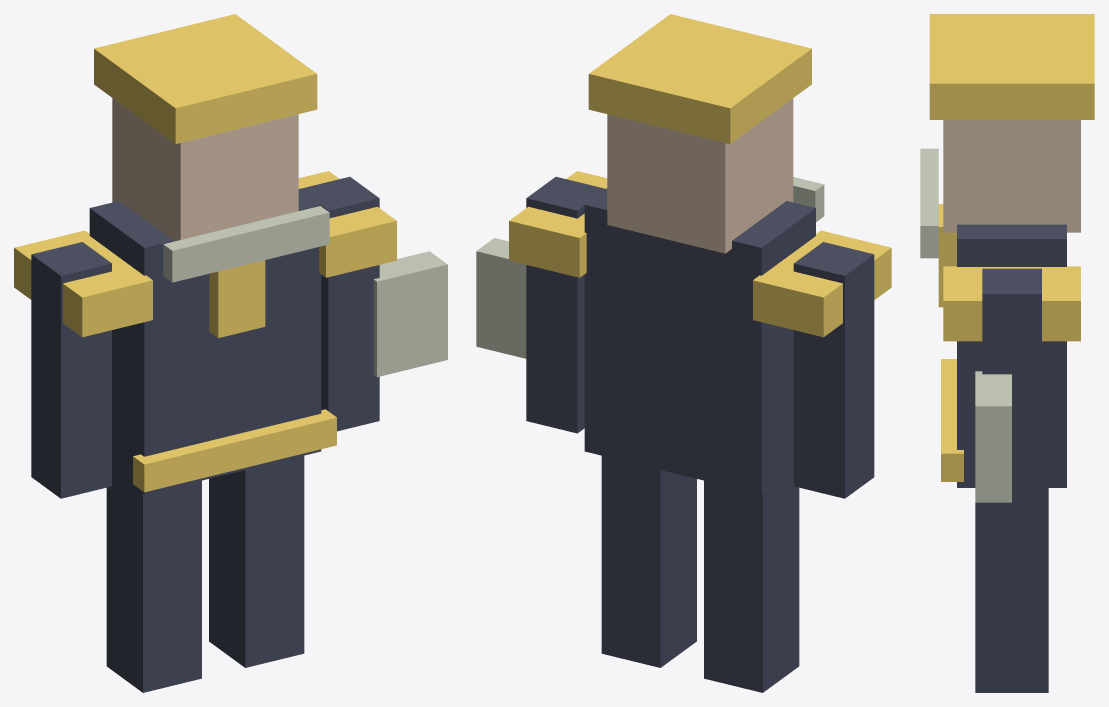
Rendered from 01_isolde_rootborne_oracle_from_data.glb.
3 renders of one model, left to right at view 1: azimuth 30°, elevation 25°; view 2: azimuth 150°, elevation 25°; view 3: azimuth 270°, elevation 25°, orthographic.
Parts seen in each view (by area): view 1: Isolde Rootborne, Oracle from Data; view 2: Isolde Rootborne, Oracle from Data; view 3: Isolde Rootborne, Oracle from Data.
Boxes of the visible parts, box(x1,y1,x2,y2) form: Isolde Rootborne, Oracle from Data: box(14, 14, 447, 692); Isolde Rootborne, Oracle from Data: box(476, 14, 891, 692); Isolde Rootborne, Oracle from Data: box(920, 14, 1094, 692).
Size of the model in its own units: 1.05 by 1.56 by 0.4081.
